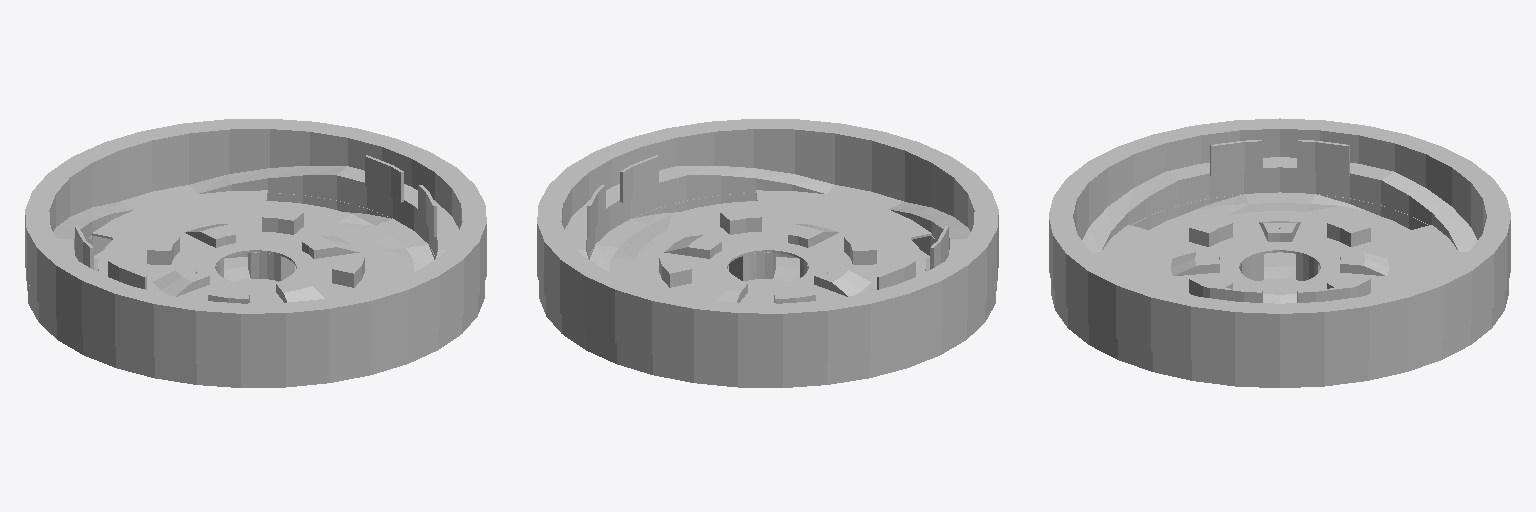
The model's file is xkillArena.obj.
3 renders of one model, left to right at view 1: azimuth 30°, elevation 25°; view 2: azimuth 150°, elevation 25°; view 3: azimuth 270°, elevation 25°, orthographic.
Visible parts, largest first — view 1: Cylinder.002_Cylinder.001, Cylinder.001_Cylinder.002, Cylinder; view 2: Cylinder.002_Cylinder.001, Cylinder.001_Cylinder.002, Cylinder; view 3: Cylinder.002_Cylinder.001, Cylinder.001_Cylinder.002, Cylinder.
Boxes of the visible parts, box(x1,y1,x2,y2) form: Cylinder.002_Cylinder.001: box(25, 119, 486, 364); Cylinder.001_Cylinder.002: box(25, 185, 486, 366); Cylinder: box(27, 193, 484, 387); Cylinder.002_Cylinder.001: box(537, 119, 998, 364); Cylinder.001_Cylinder.002: box(537, 185, 998, 366); Cylinder: box(539, 193, 996, 387); Cylinder.002_Cylinder.001: box(1049, 118, 1510, 364); Cylinder.001_Cylinder.002: box(1049, 190, 1510, 366); Cylinder: box(1051, 192, 1508, 387).
Bounding box in the file's own units: 38.53 × 7.3 × 38.53.